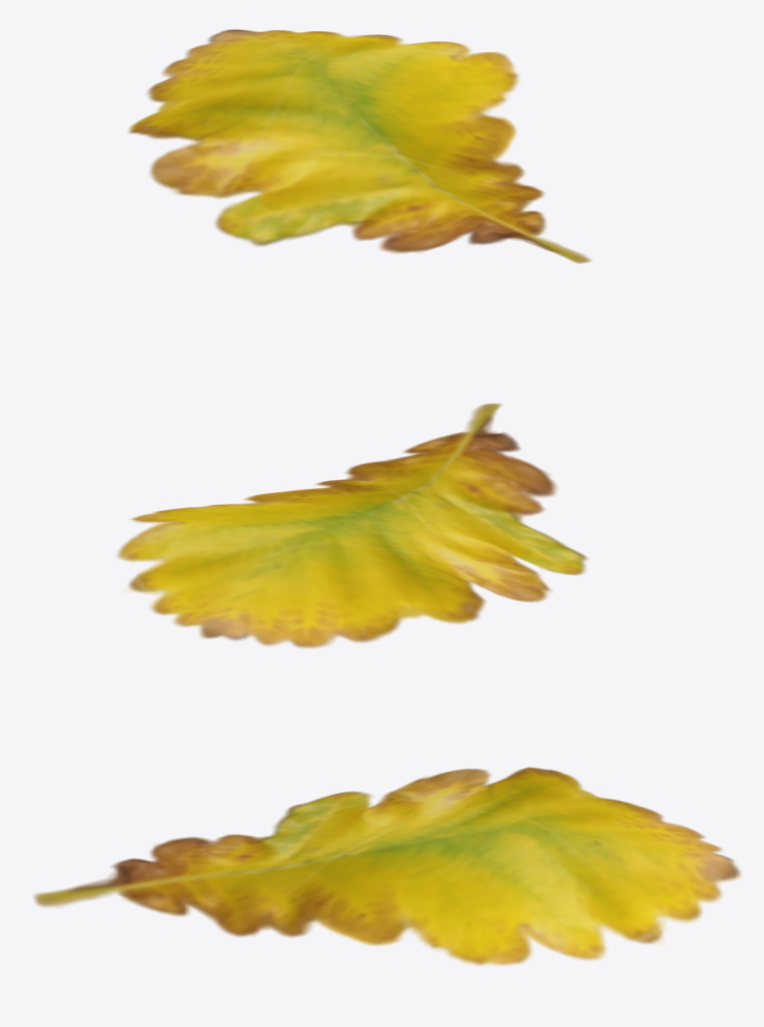
The model's file is leaf-01.glb.
3 renders of one model, top to bottom at view 1: azimuth 30°, elevation 25°; view 2: azimuth 150°, elevation 25°; view 3: azimuth 270°, elevation 25°, orthographic. The views are drawn at different scales.
Parts seen in each view (by area): view 1: leaf_1; view 2: leaf_1; view 3: leaf_1.
Boxes of the visible parts, box(x1,y1,x2,y2) form: leaf_1: box(127, 29, 591, 263); leaf_1: box(115, 403, 588, 649); leaf_1: box(33, 766, 741, 966).
Size of the model in its own units: 6.95 by 1.18 by 10.
Materials: 1 (1 with a texture image).
